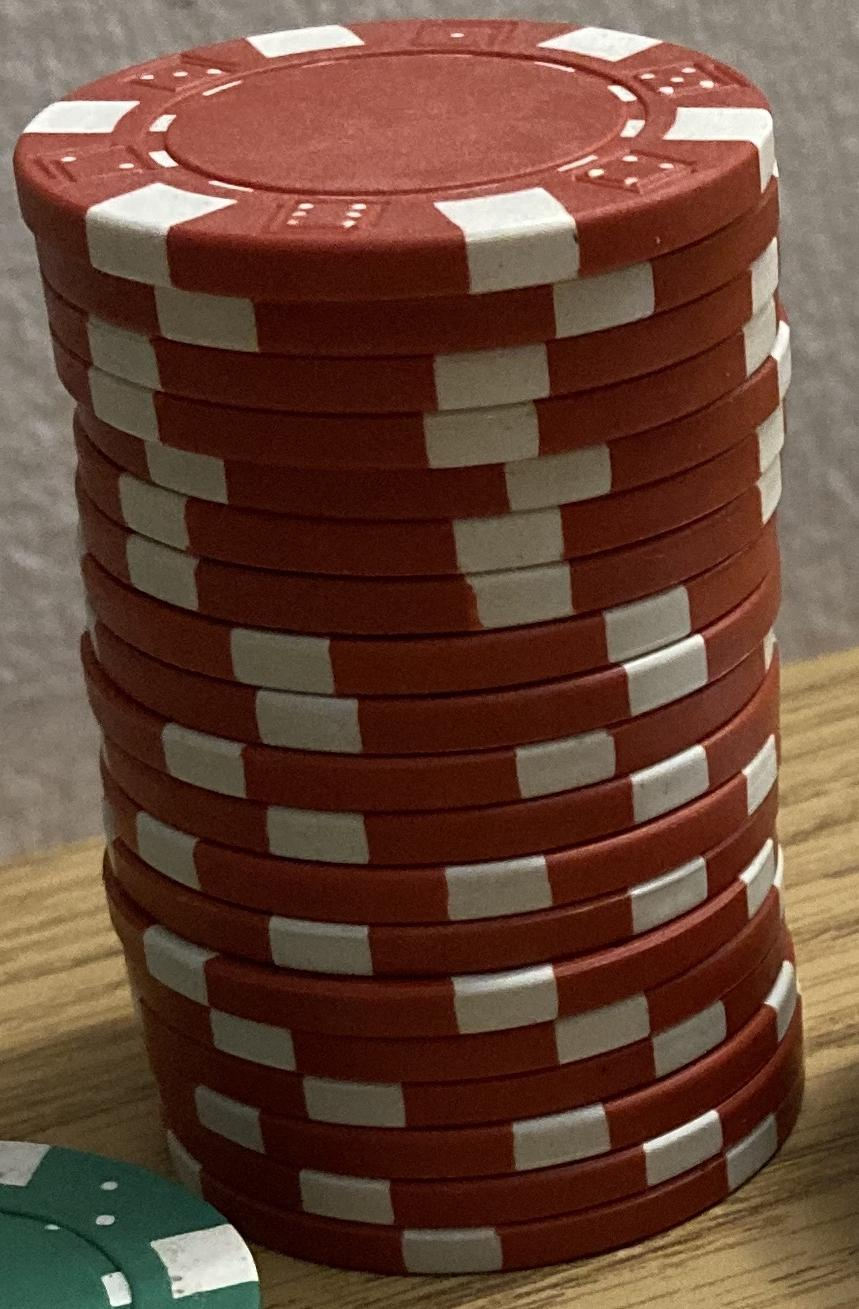Chip: (1, 1, 859, 1309)
